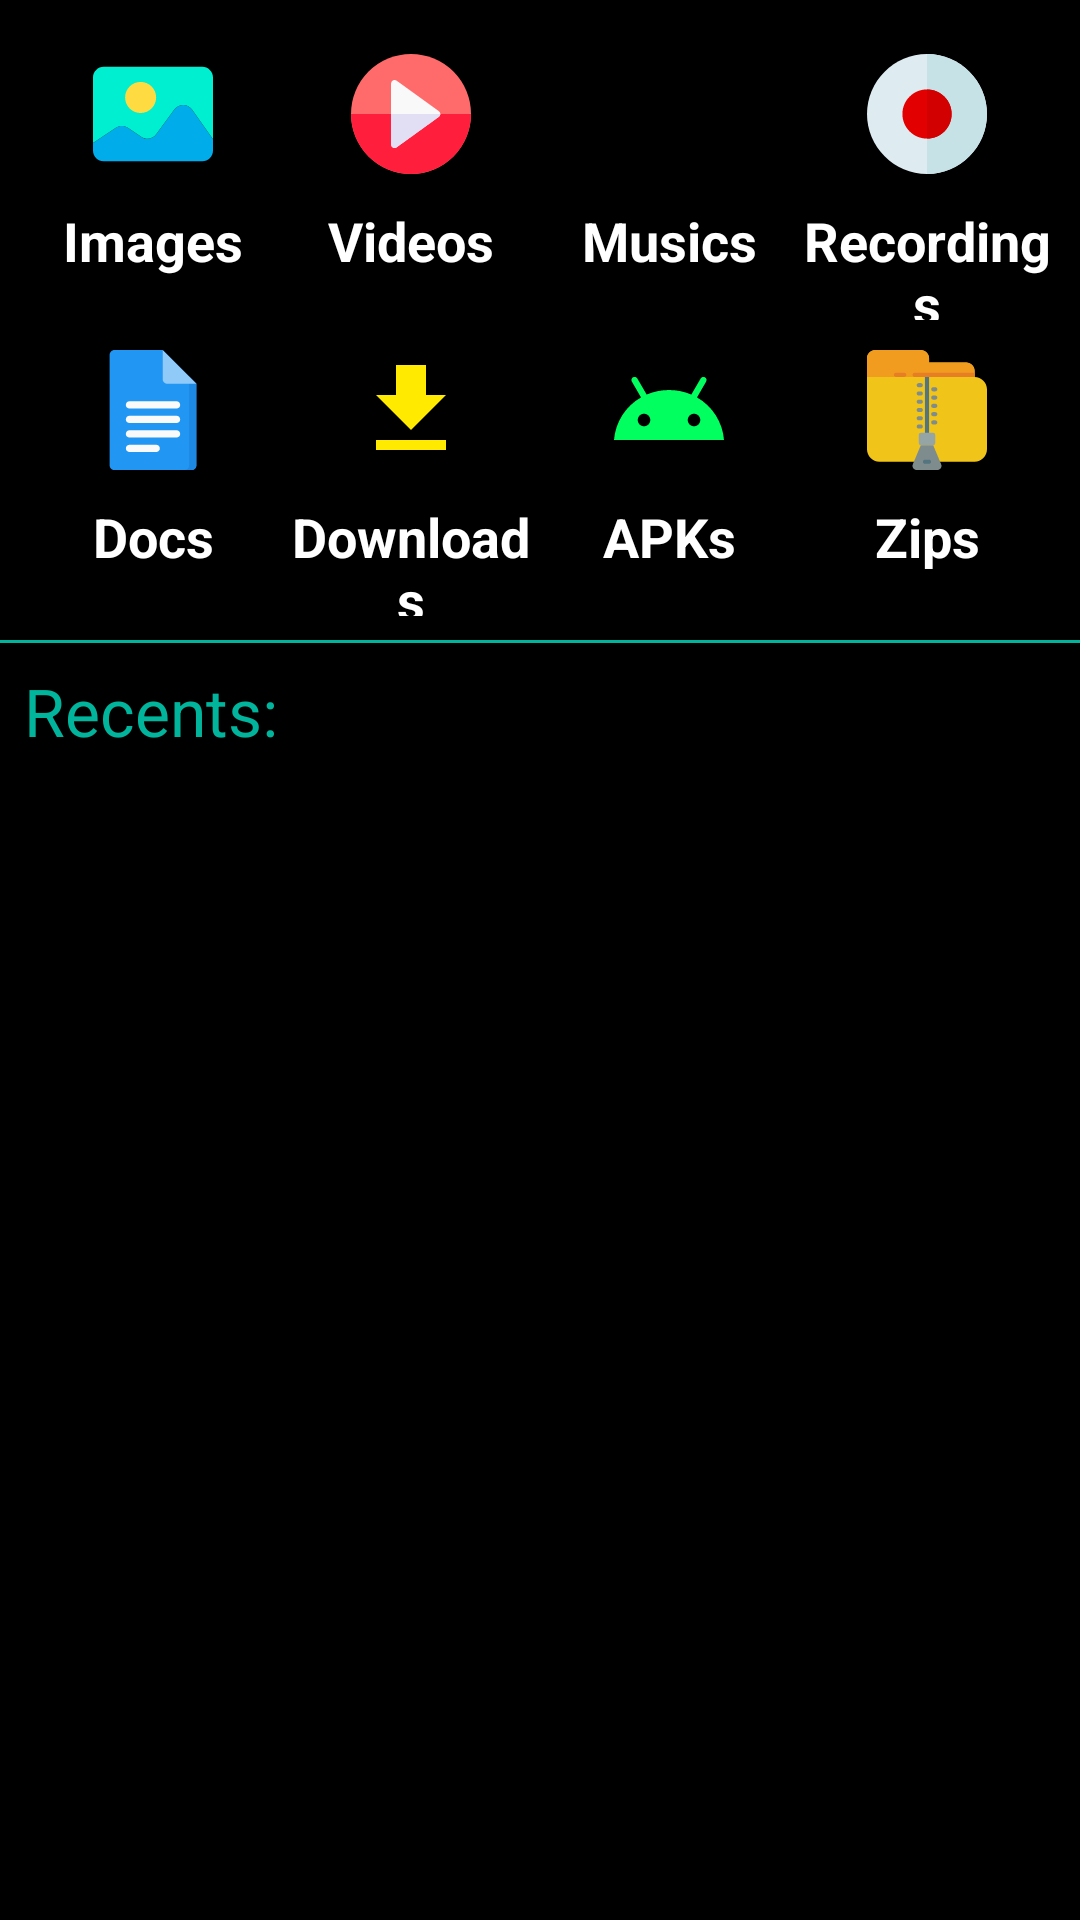

Named icons in this screenshot (1080 × 1920) and their bounding boxes, {"left": x1, "top": y1, "right": x2, "bottom": y2}:
play: {"left": 351, "top": 54, "right": 471, "bottom": 174}
zip: {"left": 867, "top": 350, "right": 987, "bottom": 470}
